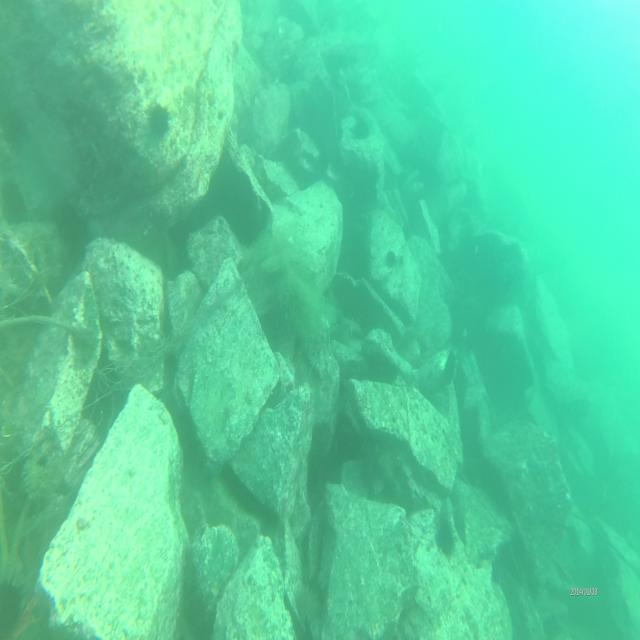echinus: (146, 101, 170, 139), (436, 516, 457, 558), (354, 120, 372, 142), (385, 249, 397, 269)
